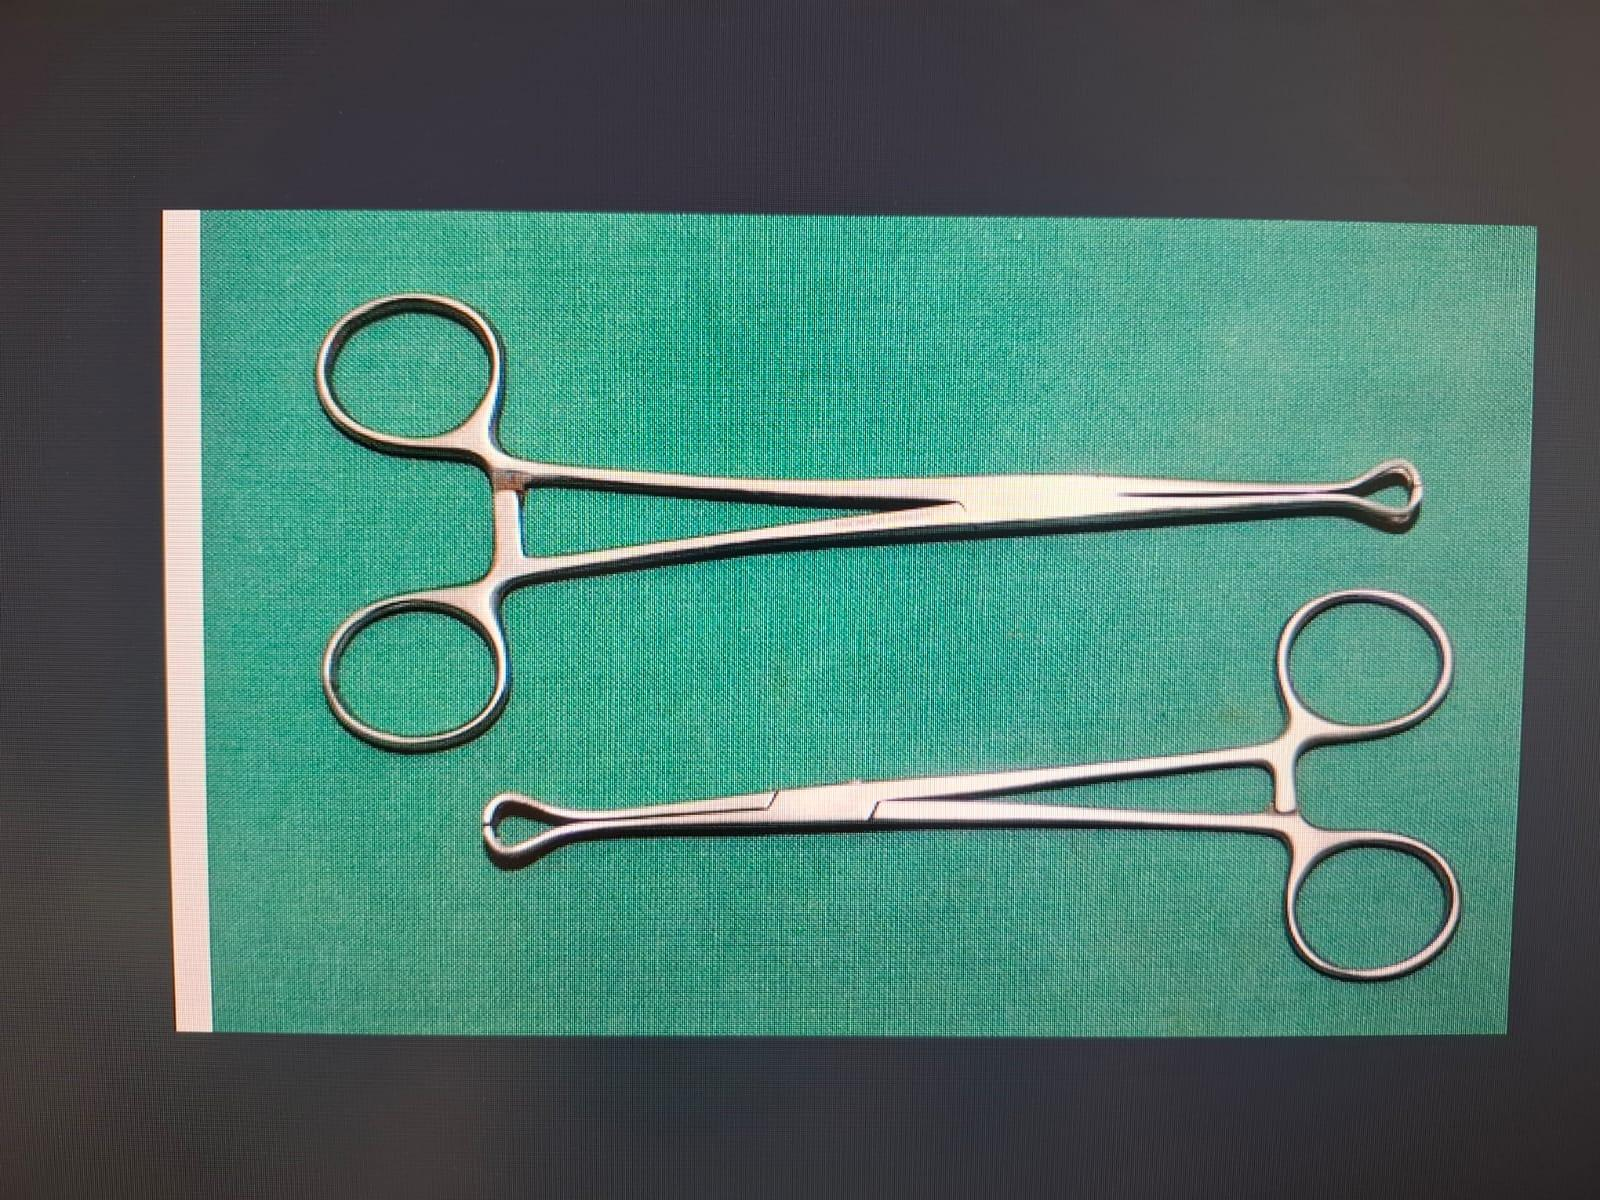Babcock Forceps: (296, 280, 1434, 756), (466, 582, 1470, 1008)
